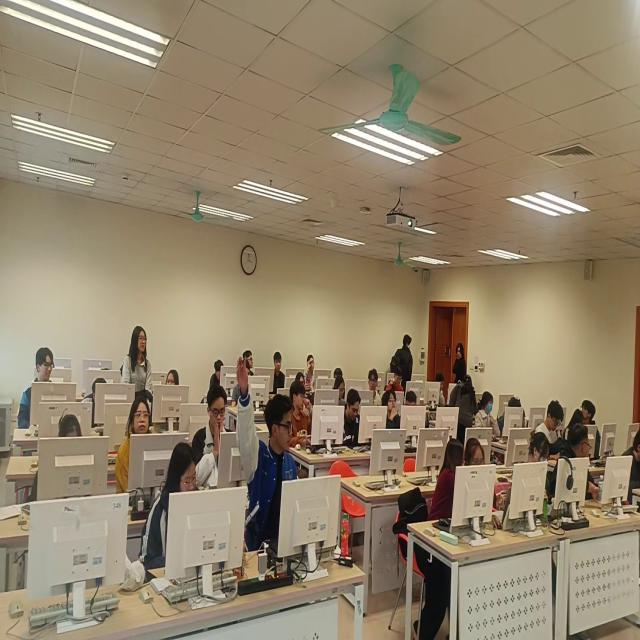raise_hand: (238, 358, 299, 554), (305, 354, 318, 384)
raise_head: (117, 395, 152, 496), (17, 348, 56, 432), (381, 387, 402, 430), (367, 367, 384, 408), (272, 351, 286, 394), (166, 370, 180, 388)
sleep: (81, 378, 109, 430), (499, 396, 527, 437)
stand: (123, 326, 154, 396), (451, 374, 477, 438), (391, 333, 415, 390), (454, 342, 468, 385)
using_computer: (139, 442, 197, 583), (27, 416, 84, 505), (192, 385, 231, 490), (525, 432, 551, 510), (534, 400, 565, 458), (620, 426, 640, 505), (475, 392, 501, 441), (345, 388, 362, 448), (232, 362, 251, 408), (564, 408, 584, 447), (210, 358, 224, 398), (386, 368, 406, 392), (333, 377, 348, 408), (434, 372, 446, 410), (405, 391, 418, 408), (334, 368, 344, 380)
using_phone: (296, 371, 312, 395)
